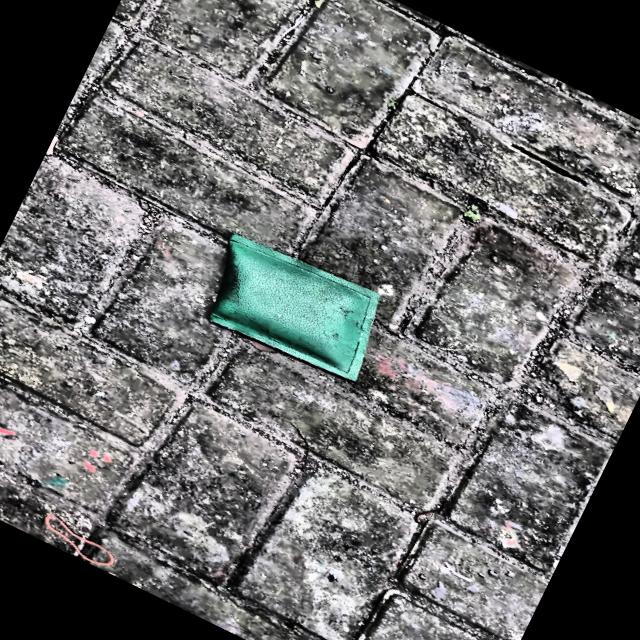payload: (208, 233, 378, 381)
